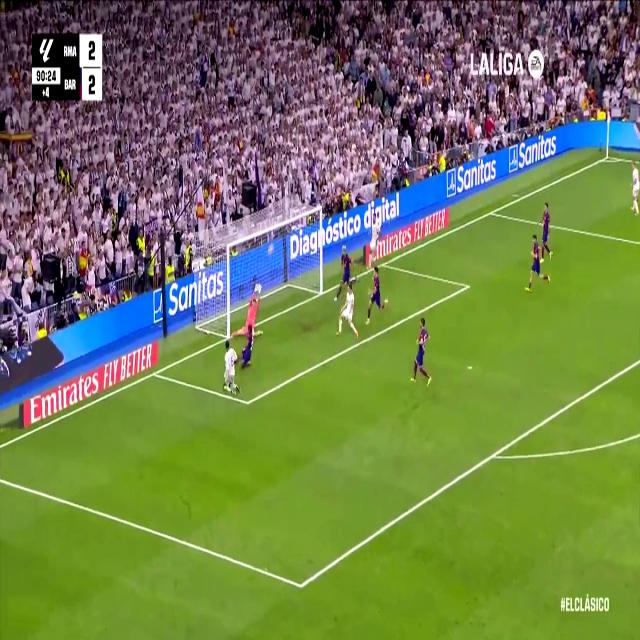bigarea_bottom_inner: (294, 566, 308, 604)
bigarea_bottom_outter: (487, 203, 497, 220)
bottom_arc_area_intersection: (486, 439, 502, 469)
corner: (601, 150, 614, 164)
smallarea_bottom_inner: (243, 389, 253, 415)
smallarea_bottom_outter: (150, 365, 160, 383)
smallarea_top_inner: (462, 274, 472, 298)
smallarea_top_outter: (379, 256, 387, 272)
